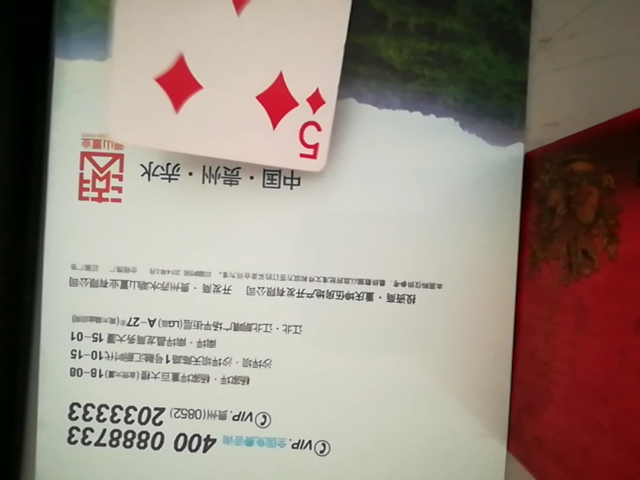fk 5: (77, 0, 368, 174)
